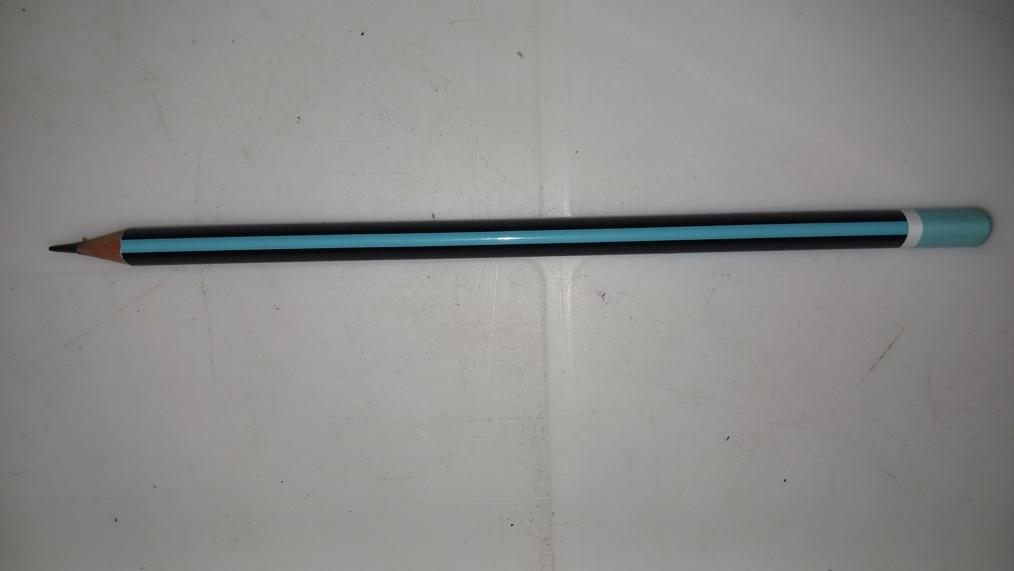Pencil: (41, 209, 993, 272)
